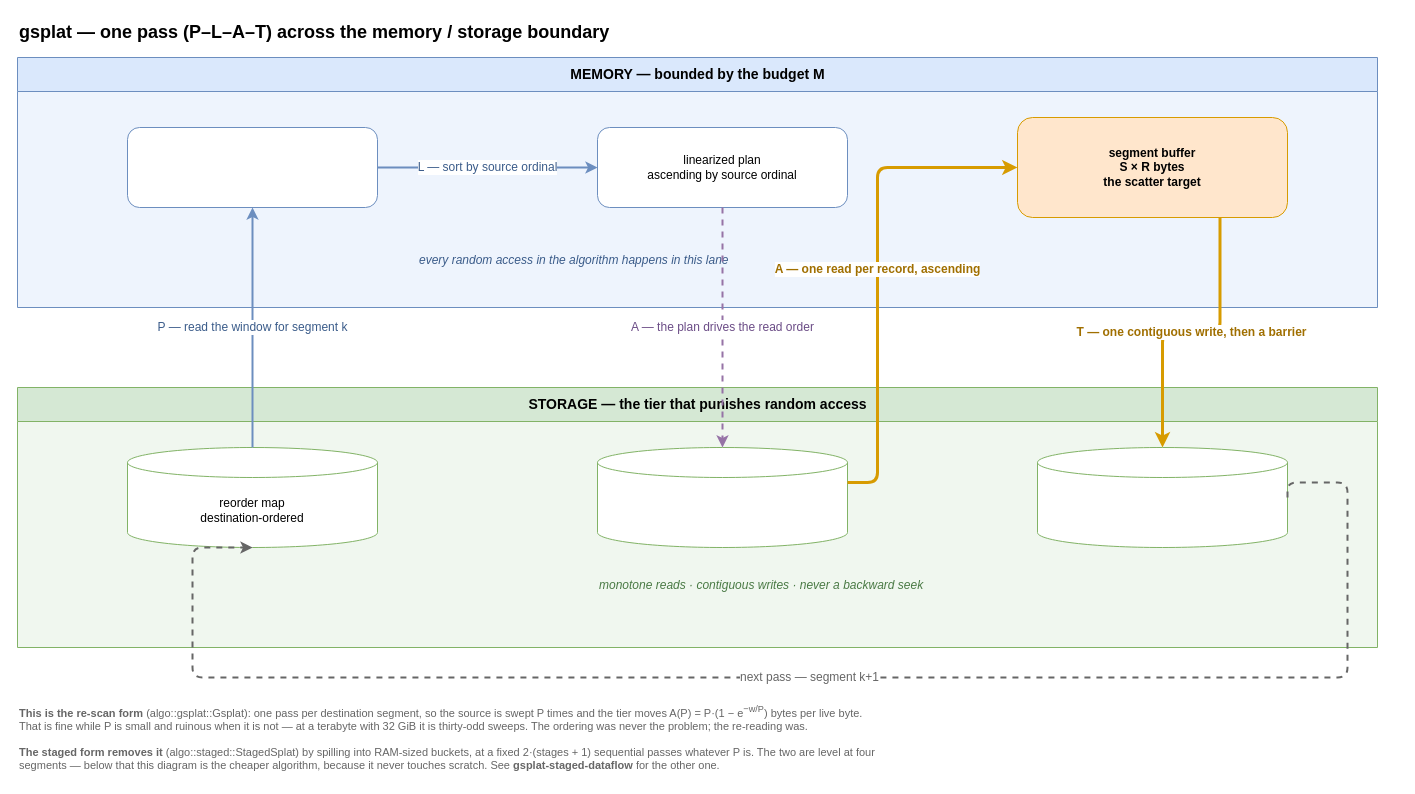
Some shapes in this 1415 by 794 pixel diagram are drawn without their labels. Each missing label, with the centre of its shape:
output records N × R: (x=1162, y=497)
read plan S entries: (source ordinal, local slot): (x=252, y=167)
source records N_src × R: (x=722, y=497)
